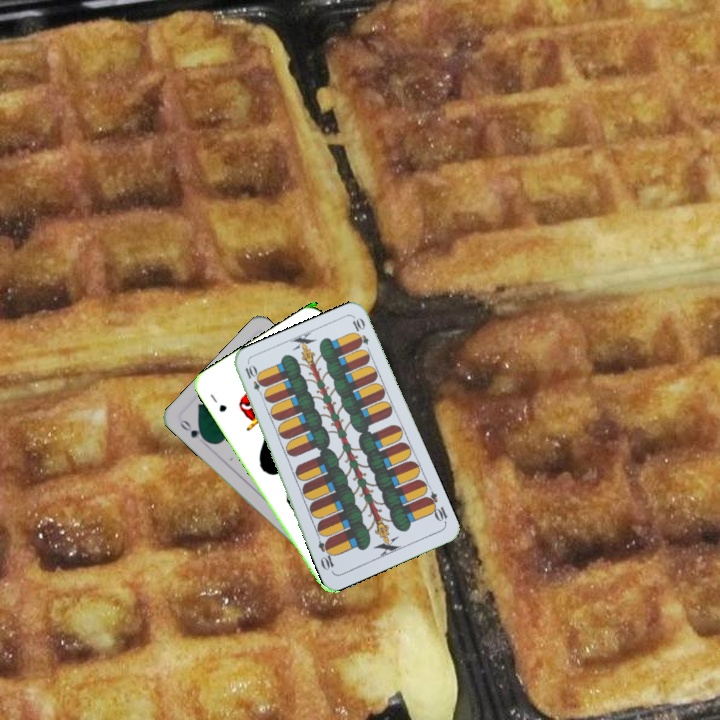E10: (421, 488, 451, 526), (241, 361, 267, 400)
GO: (175, 416, 210, 445)
GU: (206, 390, 229, 415)
